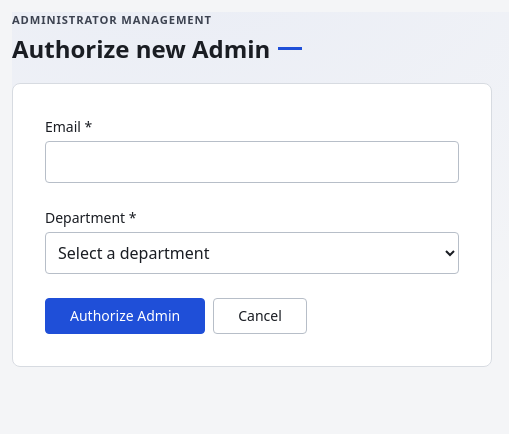
Test: AdminAuthorizePage › requires email and department before submitting
What coordinates should you click on to do the following:
click the button "Authorize Admin"
I would click on:
 (125, 316)
Its box is [45,298,205,334].
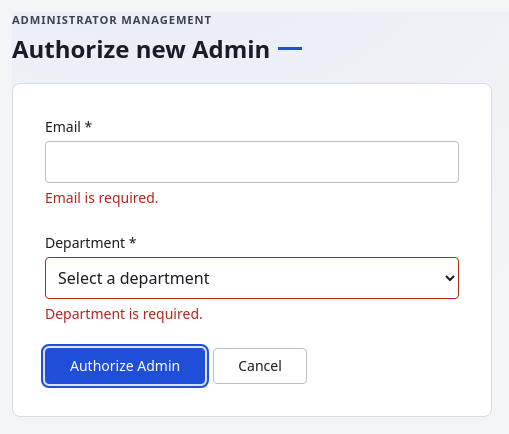
Check: the text "Email is required." is shown, box [45,188,159,207]
Check: the text "Department is required." is shown, box [45,304,203,323]
